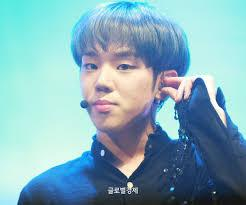earphone: (155, 79, 168, 92)
